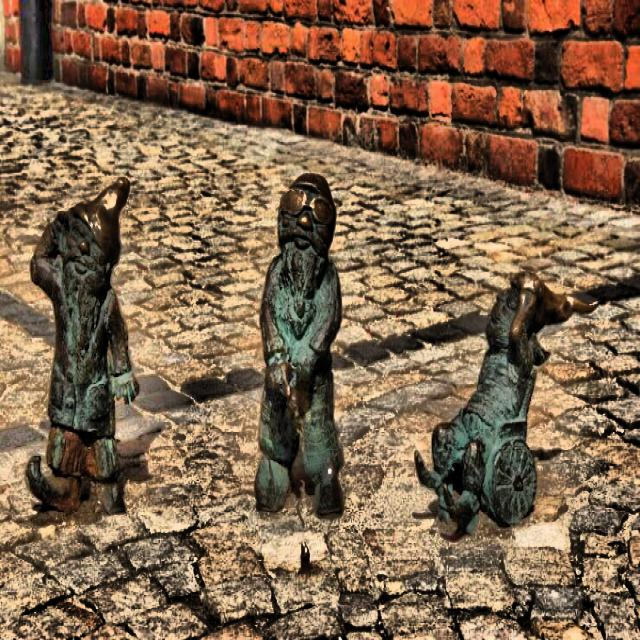Gluchak: (26, 177, 139, 513)
Slepak: (255, 174, 342, 515)
W-Skers: (415, 271, 598, 532)
